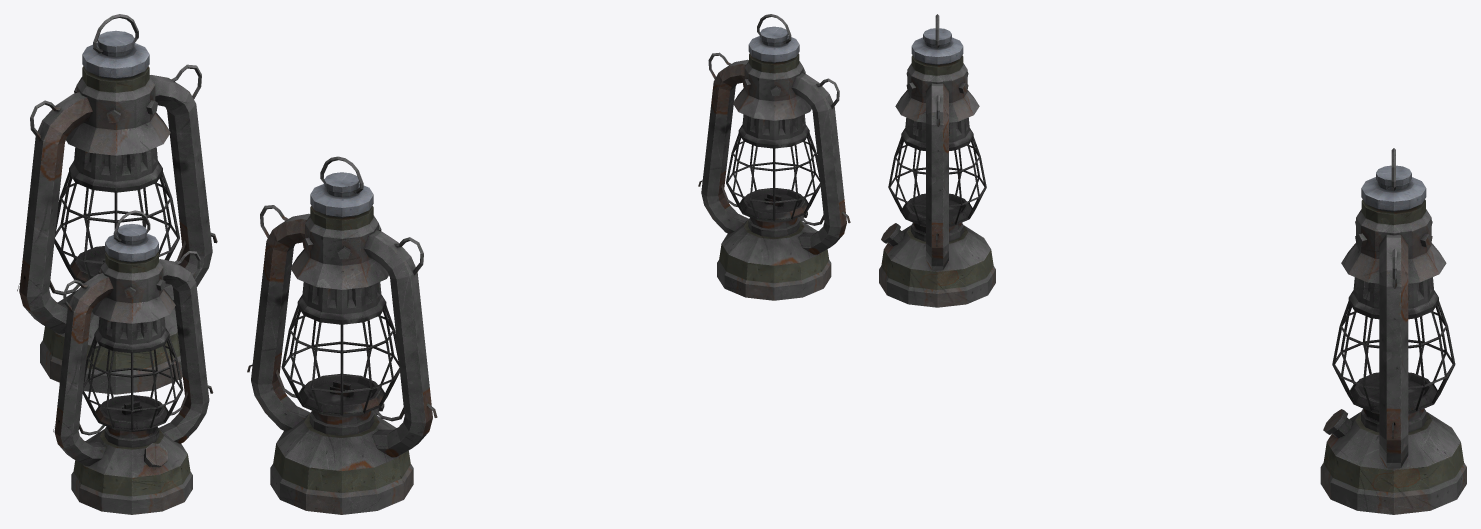
The model's file is Lantern.glb.
3 renders of one model, left to right at view 1: azimuth 30°, elevation 25°; view 2: azimuth 150°, elevation 25°; view 3: azimuth 270°, elevation 25°, orthographic. The views are drawn at different scales.
Visible parts, largest first — view 1: WorldModel, lantern; view 2: WorldModel, lantern; view 3: WorldModel, lantern.
Part boxes in pixels (box(x1,y1,x2,y2)): WorldModel: box(17, 14, 217, 394); lantern: box(53, 210, 213, 514); WorldModel: box(247, 156, 437, 514); lantern: box(698, 14, 850, 300); WorldModel: box(1320, 148, 1466, 514); lantern: box(879, 14, 995, 307).
Size of the model in its own units: 0.8371 by 0.7504 by 1.1.
1 material, 1 textured.
